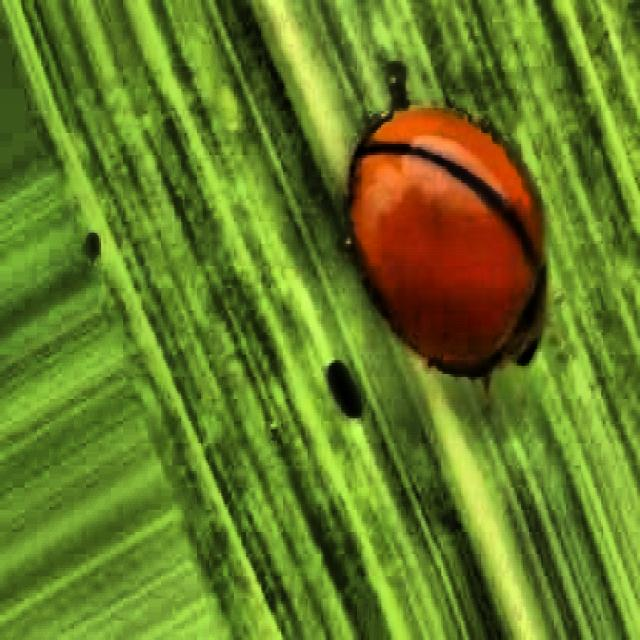Ladybug: (302, 36, 593, 466)
